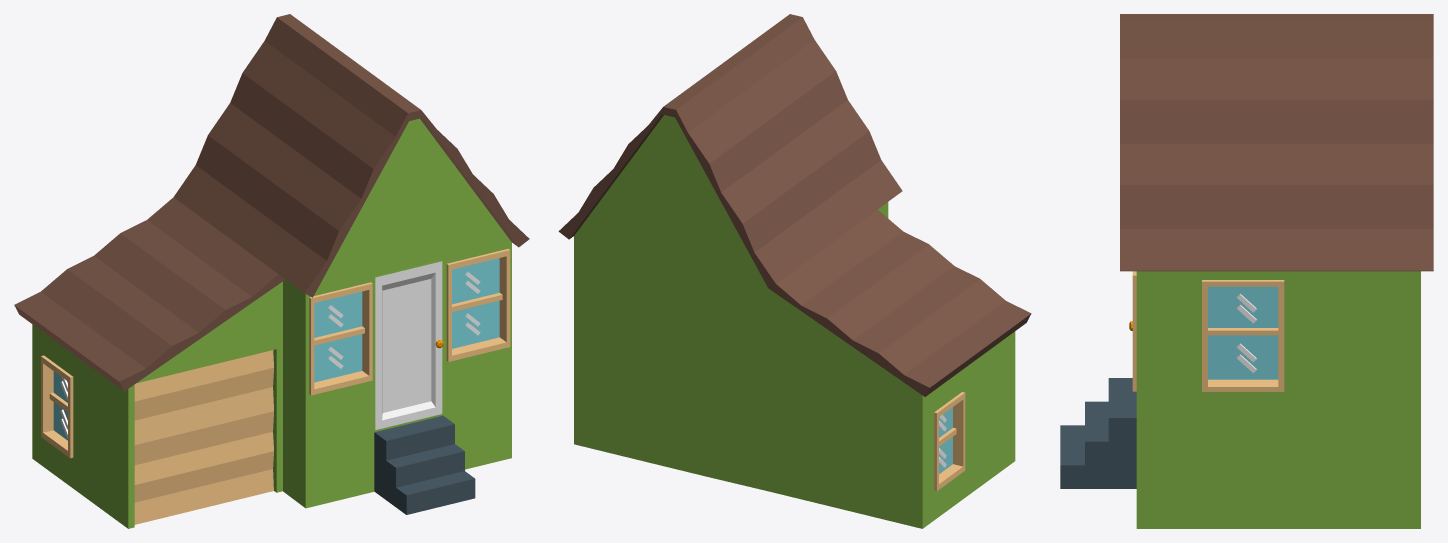
The model's file is House.glb.
3 renders of one model, left to right at view 1: azimuth 30°, elevation 25°; view 2: azimuth 150°, elevation 25°; view 3: azimuth 270°, elevation 25°, orthographic. The views are drawn at different scales.
Parts seen in each view (by area): view 1: House_Cube.028; view 2: House_Cube.028; view 3: House_Cube.028.
Boxes of the visible parts, x1,y1,x2,y2 form: House_Cube.028: [14, 14, 529, 528]; House_Cube.028: [558, 14, 1031, 528]; House_Cube.028: [1060, 14, 1433, 528].
Bounding box in the file's own units: 10.6 × 9.93 × 7.46.
